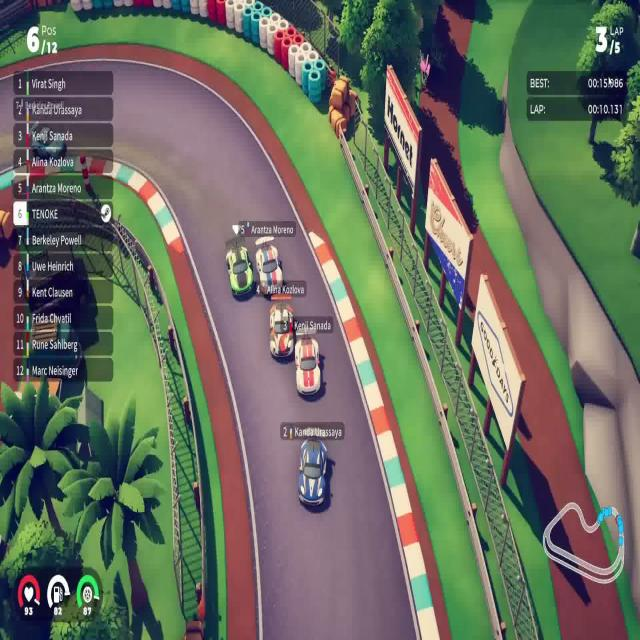car: (297, 437, 328, 508), (254, 239, 284, 297), (294, 334, 321, 397), (225, 242, 254, 299), (268, 300, 295, 360)
